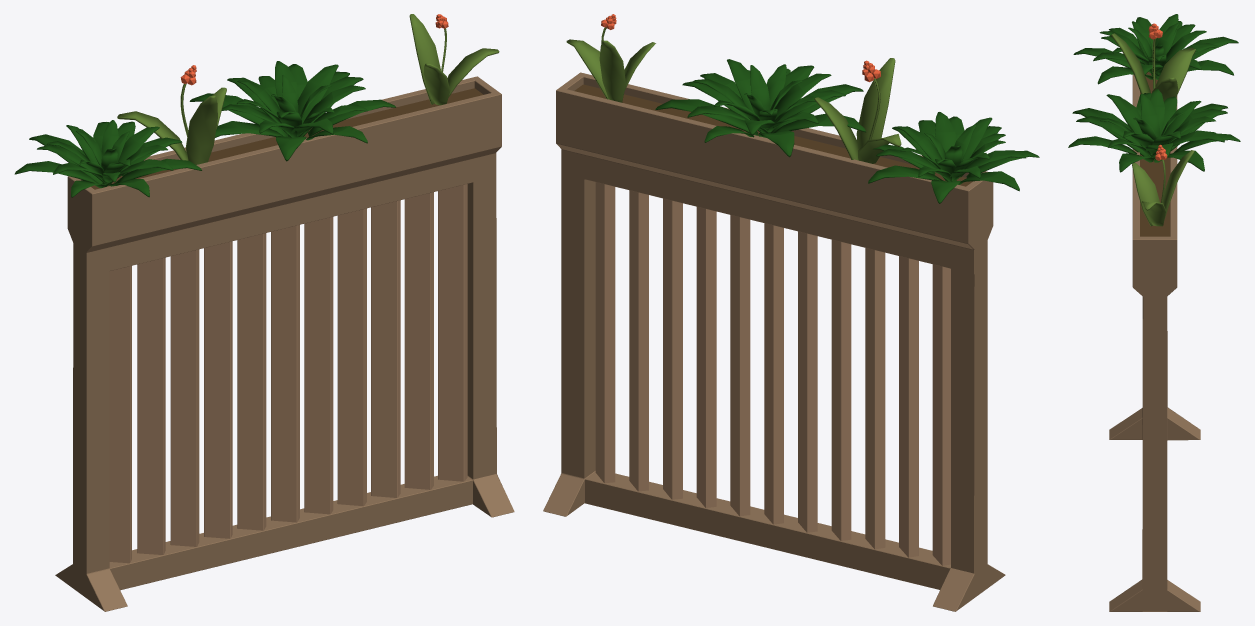
File: divider.glb
3 renders of one model, left to right at view 1: azimuth 30°, elevation 25°; view 2: azimuth 150°, elevation 25°; view 3: azimuth 270°, elevation 25°, orthographic. The views are drawn at different scales.
Visible parts, largest first — view 1: DividerPanels, DividerFrame, DividerPlant4, DividerPlant1, DividerPlant2, DividerPlant6, DividerSoil; view 2: DividerFrame, DividerPanels, DividerPlant4, DividerPlant1, DividerPlant2, DividerPlant6, DividerSoil; view 3: DividerFrame, DividerPlant4, DividerPlant1, DividerPlant2, DividerPlant6, DividerSoil.
Boxes of the visible parts, <box> form: DividerPanels: <box>109,184,467,563</box>; DividerFrame: <box>55,76,514,611</box>; DividerPlant4: <box>189,61,396,161</box>; DividerPlant1: <box>14,120,201,197</box>; DividerPlant2: <box>117,65,226,164</box>; DividerPlant6: <box>409,14,499,105</box>; DividerSoil: <box>91,88,483,189</box>; DividerFrame: <box>543,72,1005,611</box>; DividerPanels: <box>595,182,950,565</box>; DividerPlant4: <box>655,59,865,157</box>; DividerPlant1: <box>868,112,1039,203</box>; DividerPlant2: <box>814,58,901,163</box>; DividerPlant6: <box>566,14,655,102</box>; DividerSoil: <box>574,84,972,186</box>; DividerFrame: <box>1109,74,1200,611</box>; DividerPlant4: <box>1068,89,1240,172</box>; DividerPlant1: <box>1073,14,1238,84</box>; DividerPlant2: <box>1111,23,1195,101</box>; DividerPlant6: <box>1132,144,1194,226</box>; DividerSoil: <box>1140,72,1170,236</box>.
Size of the model in its own units: 2.4 by 2.46 by 0.8437.
